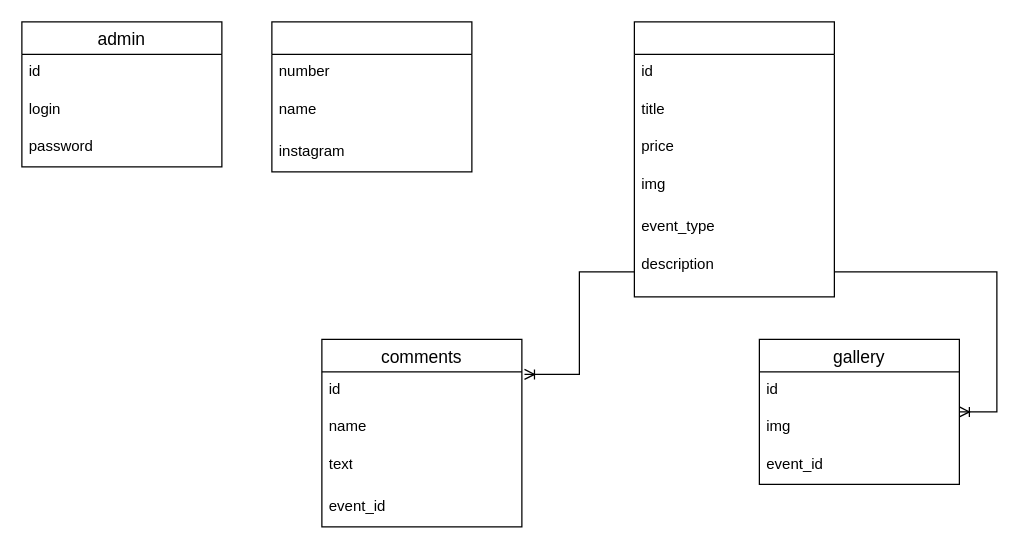
Some shapes in this 1029 by 553 pixel diagram are drawn without their labels. The shapes that lost their labels are listed below. From the top down, each one's box as (x1, y1, x2, y2) in pixels, then its label:
(271, 21, 472, 172): user
(633, 21, 834, 297): events
